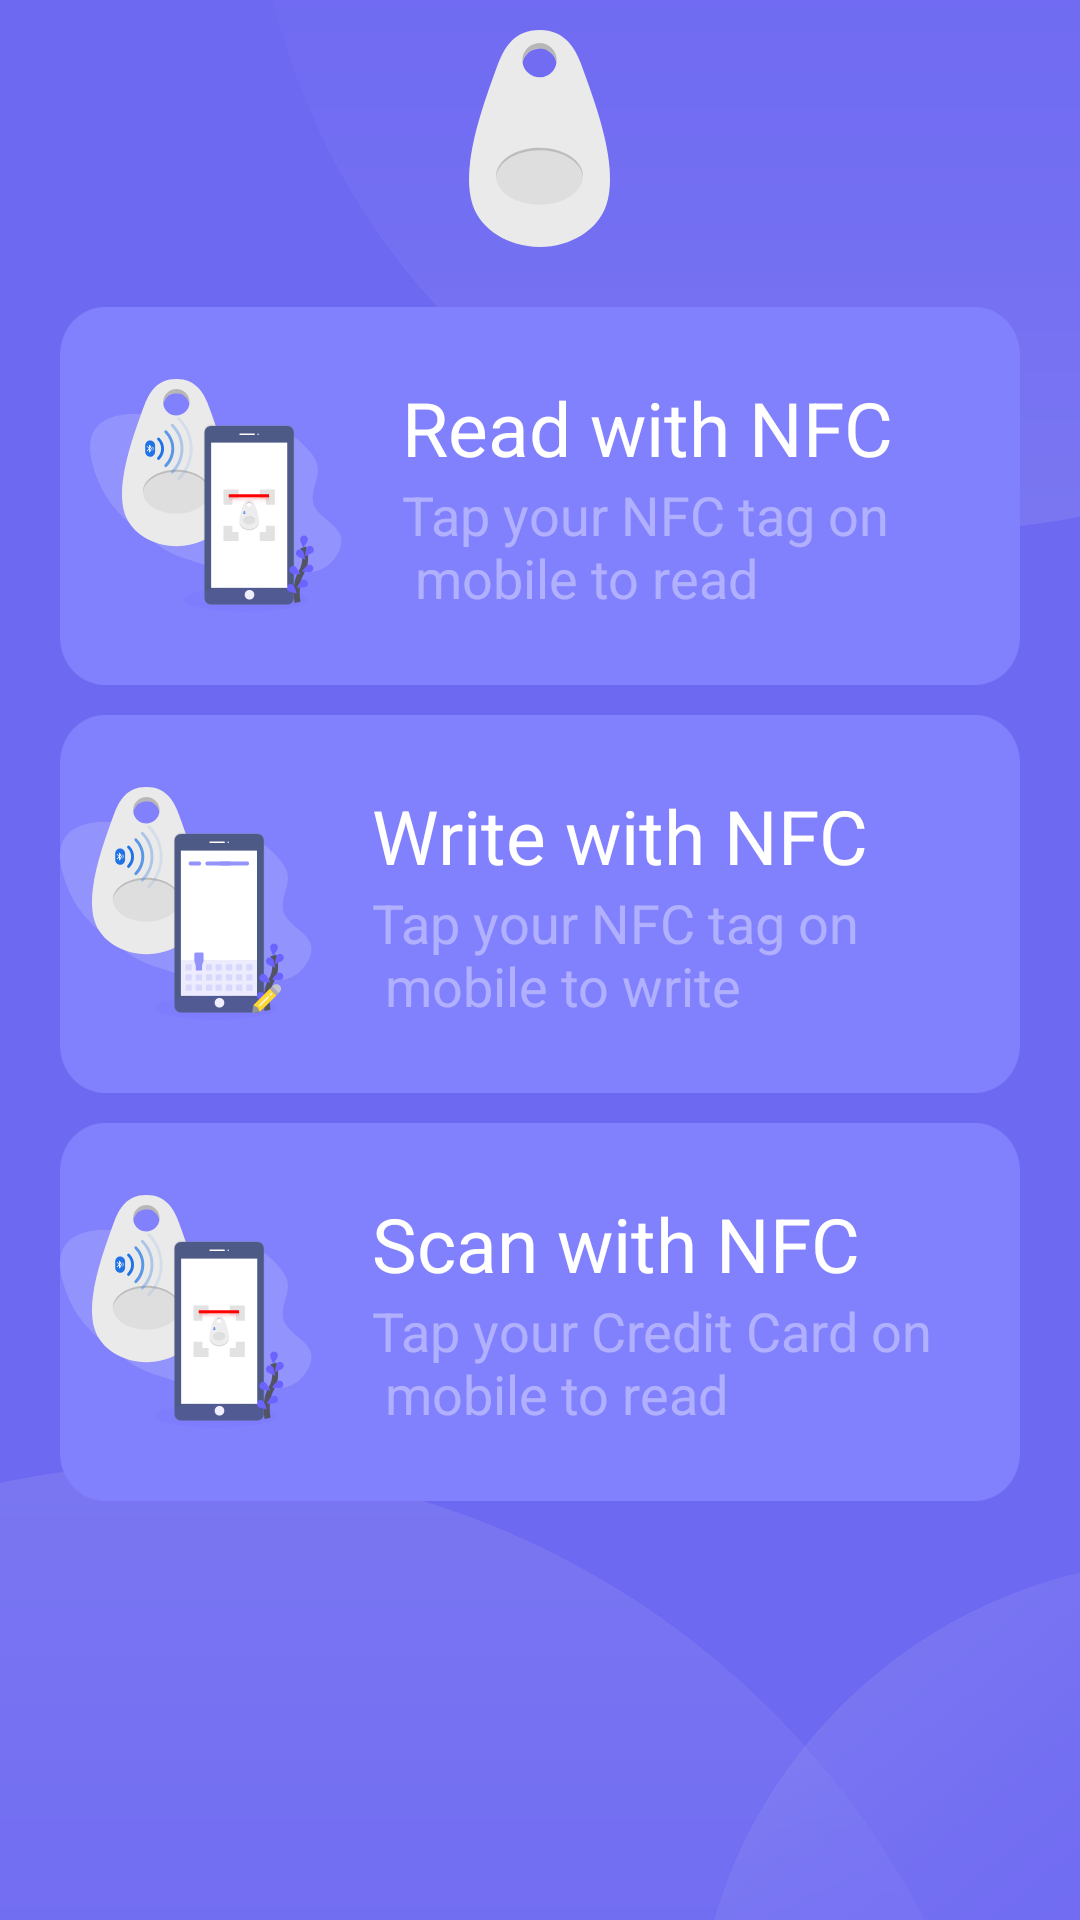

Screen size 1080w x 1920h. Icon name, then its box in pixels as (x1, y1, x2, y2):
Home Nfc: (469, 30, 610, 247)
